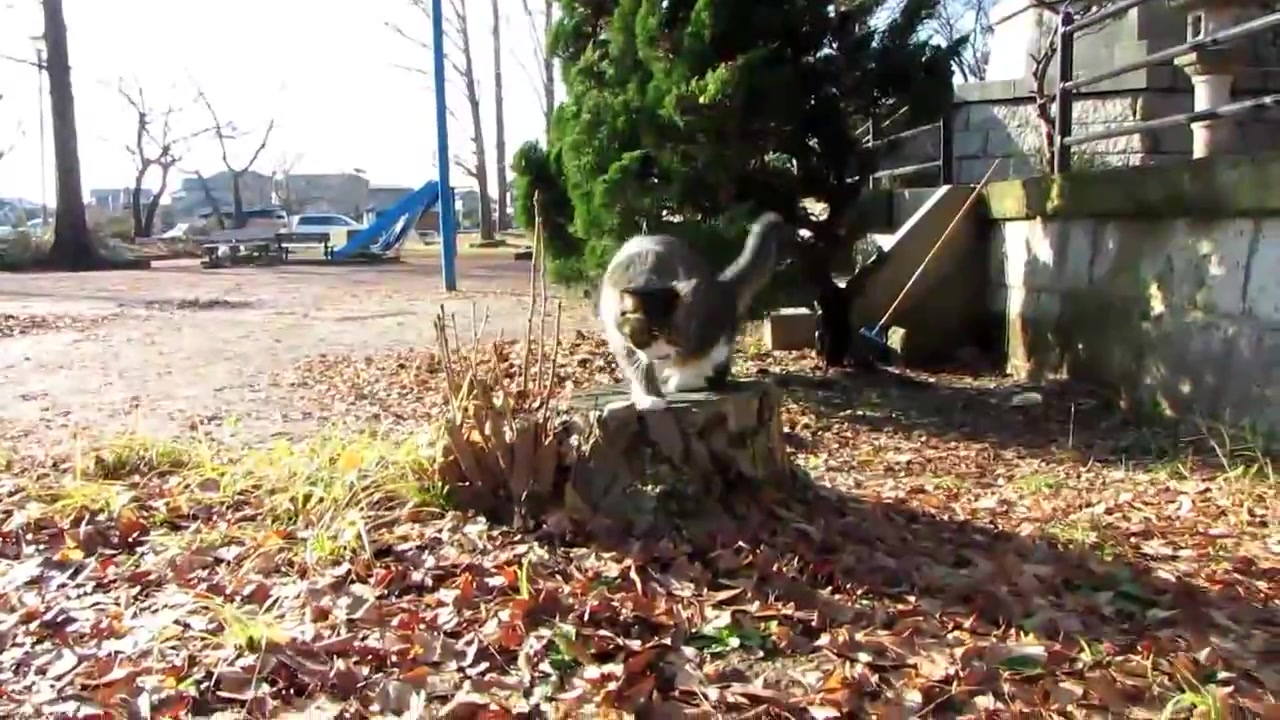cat: (595, 215, 783, 414)
